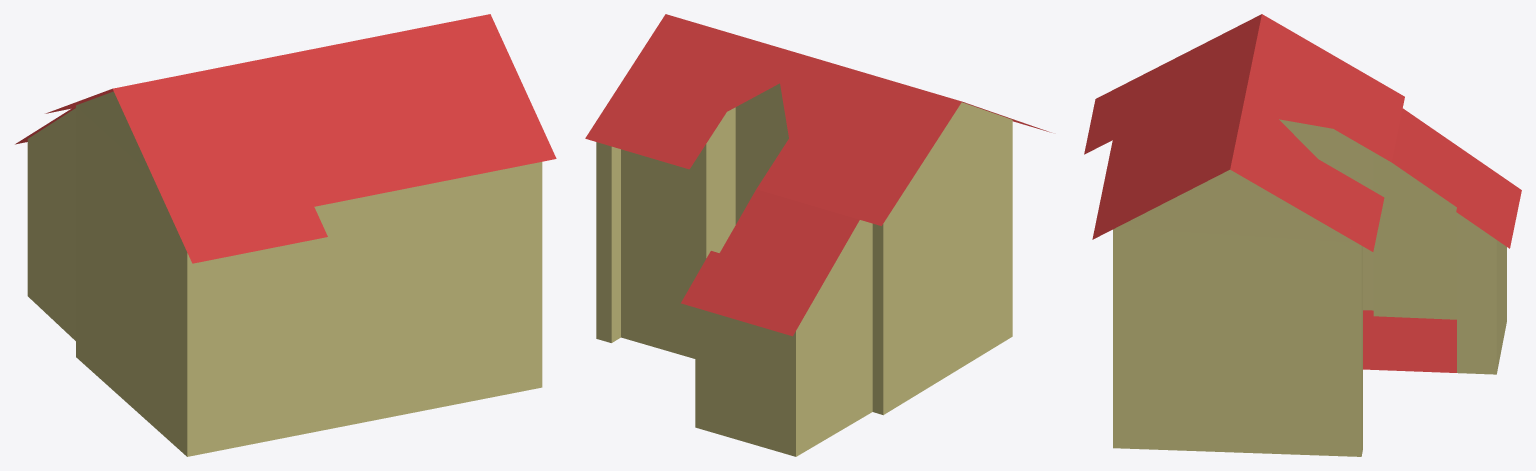
3 renders of one model, left to right at view 1: azimuth 30°, elevation 25°; view 2: azimuth 150°, elevation 25°; view 3: azimuth 270°, elevation 25°, orthographic. The views are drawn at different scales.
Bounding box in the file's own units: 17.6 × 19.52 × 14.01.
